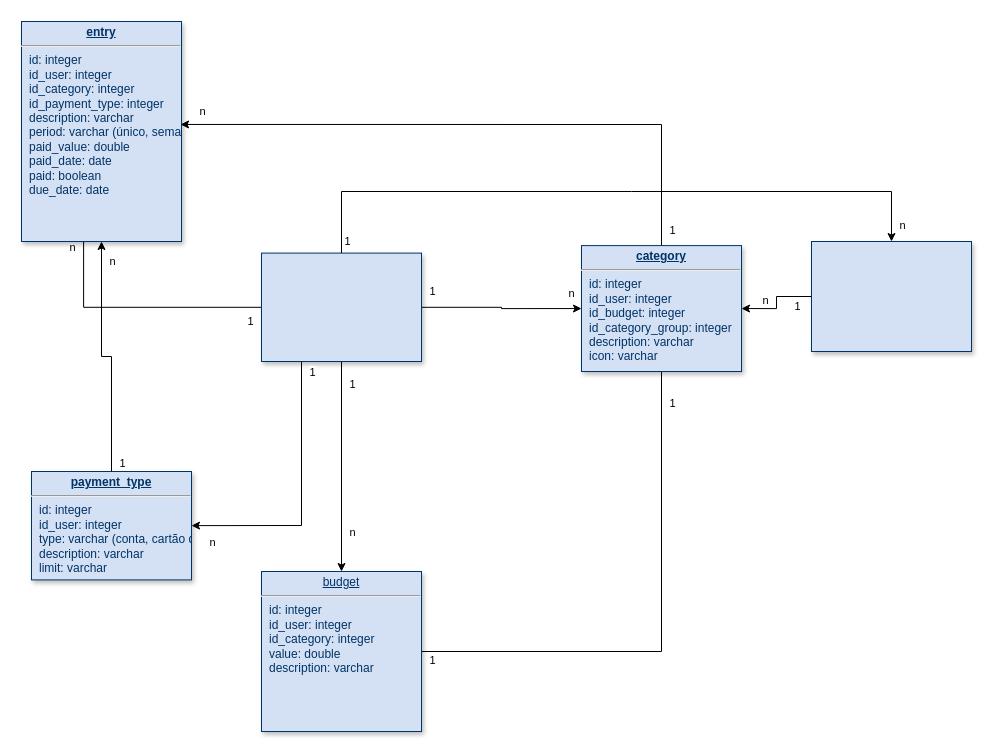
Image size: 995x756. Some labels were removed from this diagram. Each missing label, with the centre of its shape:
category_group id: integer id_user: integer description: varchar icon: varchar: the point at 892,297
users id: integer name: varchar email: varchar password: varchar: the point at 342,308
